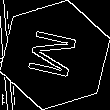M_E: (25, 27, 85, 83)
